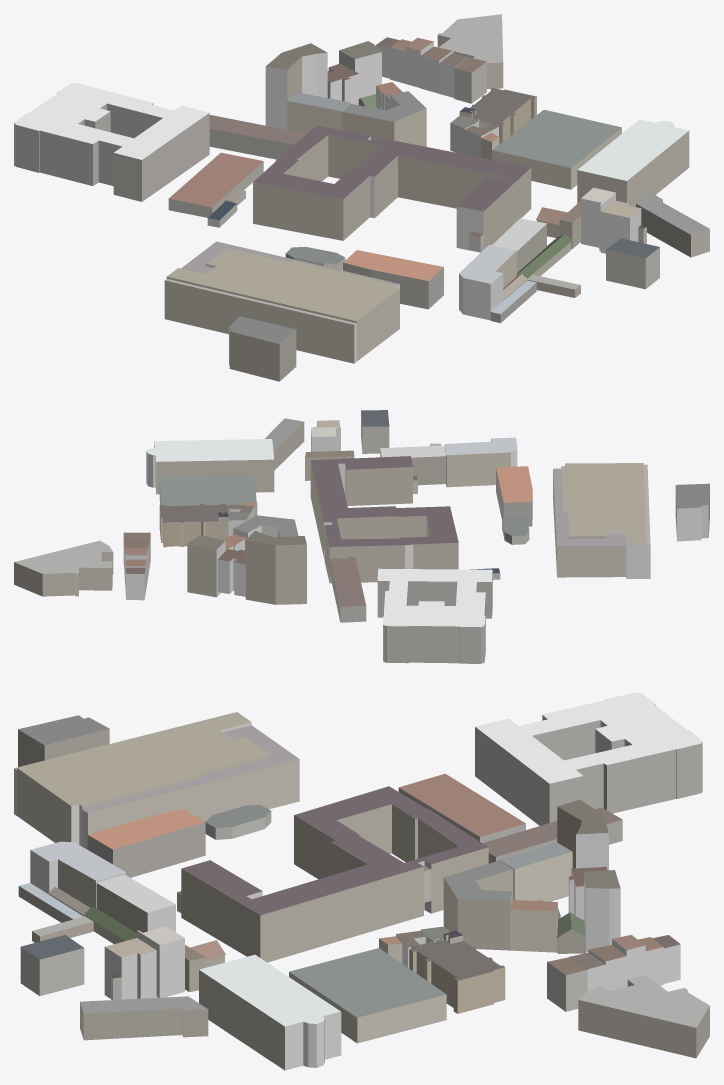
3 views of the same model, one above another, from view 1: azimuth 30°, elevation 25°; view 2: azimuth 150°, elevation 25°; view 3: azimuth 270°, elevation 25° (orthographic). The views are drawn at different scales.
Parts seen in each view (by area): view 1: tuile; view 2: tuile; view 3: tuile.
Boxes of the visible parts, left/top/right/bottom form: tuile: left=14, top=14, right=709, bottom=381; tuile: left=14, top=410, right=709, bottom=663; tuile: left=14, top=692, right=709, bottom=1070.
Bounding box in the file's own units: 284 × 44.18 × 265.
